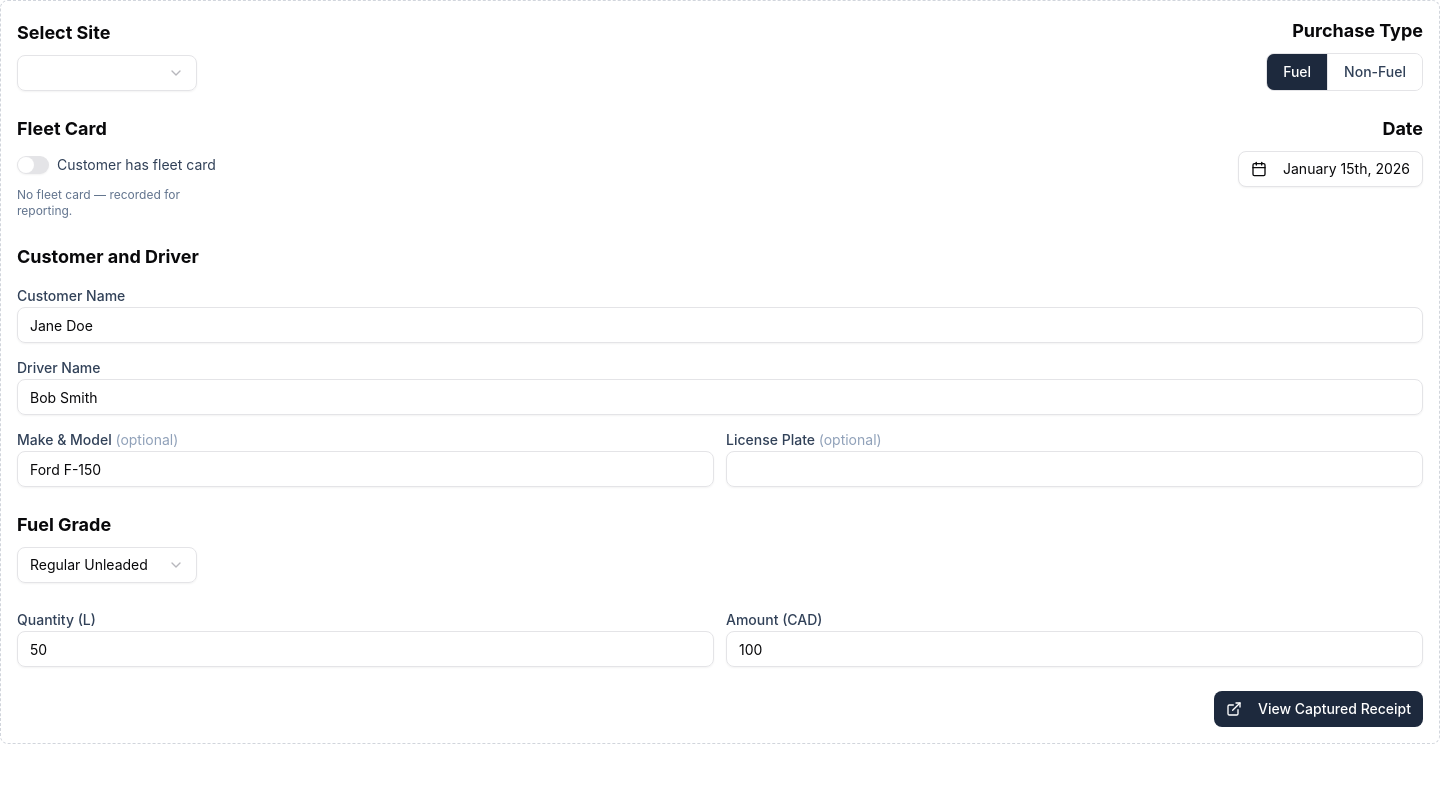
Test: PO Form — index.tsx › falls back to the cached AR customer list when the fetch fails (offline)
The image size is (1440, 810).
Focus the field showing "Jane Doe" below "Customer Name" at coordinates (720, 325), box [17,307,1423,343]
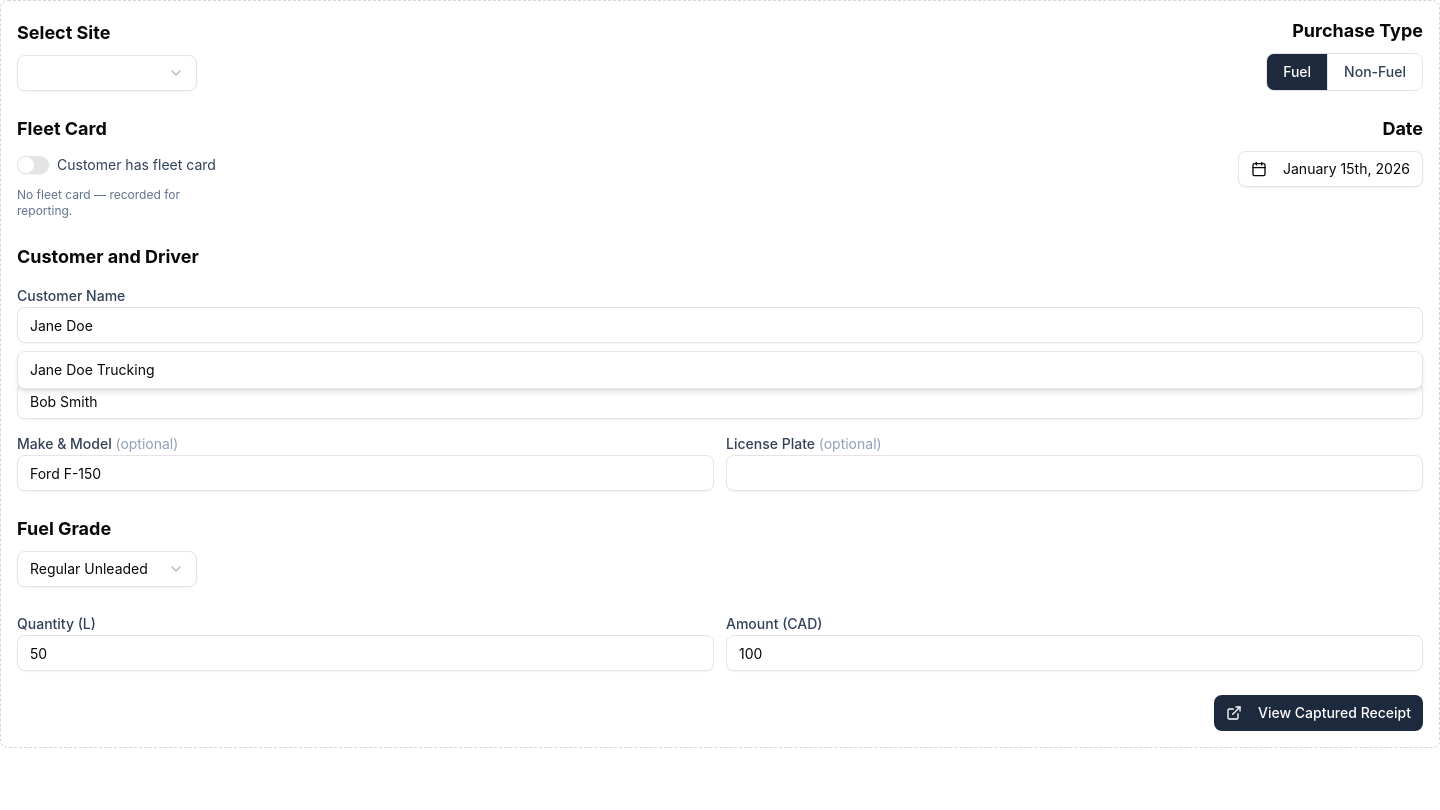
Now the list item "Jane Doe Trucking" is shown, box [30,361,154,378]
